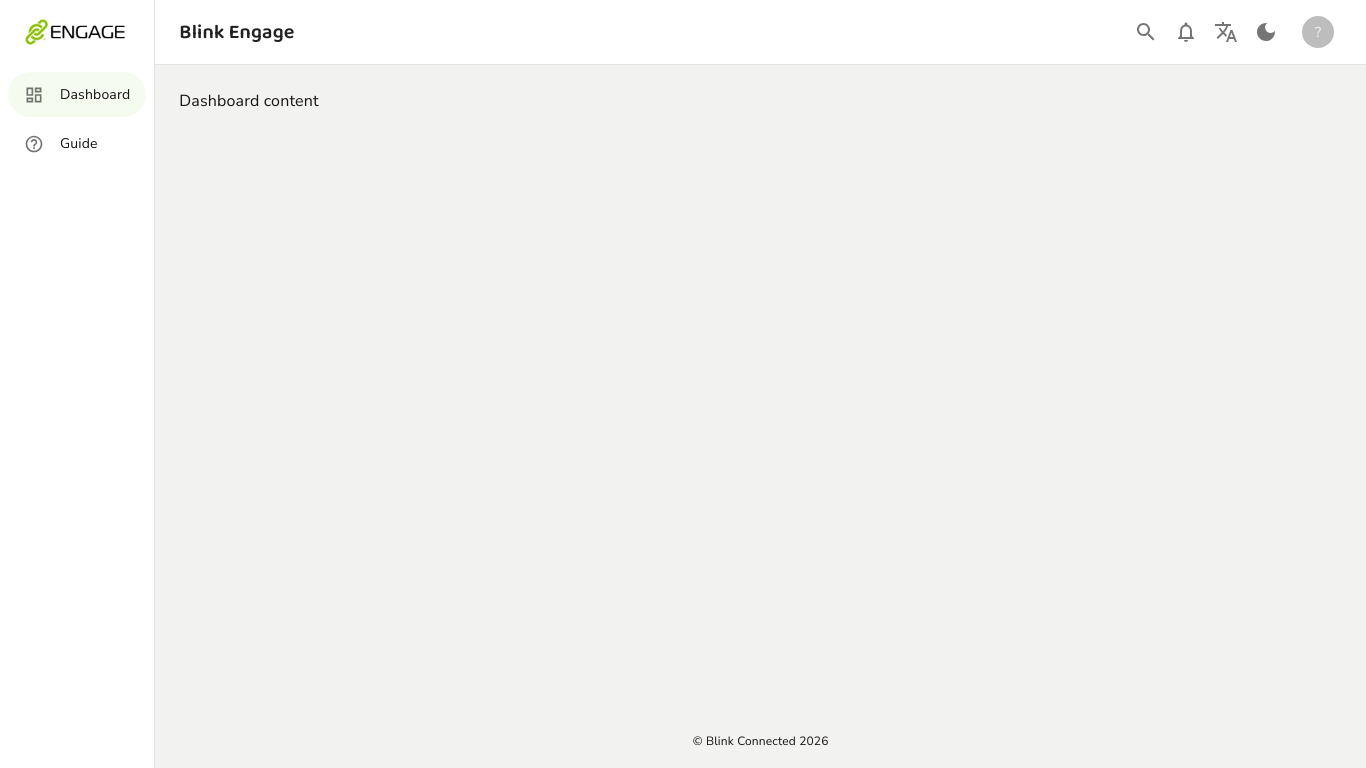
Test: AppLayout › language menu › opens to show both supported languages
The image size is (1366, 768).
Click the button named "language menu" at [1226, 32], box [1206, 12, 1246, 52]
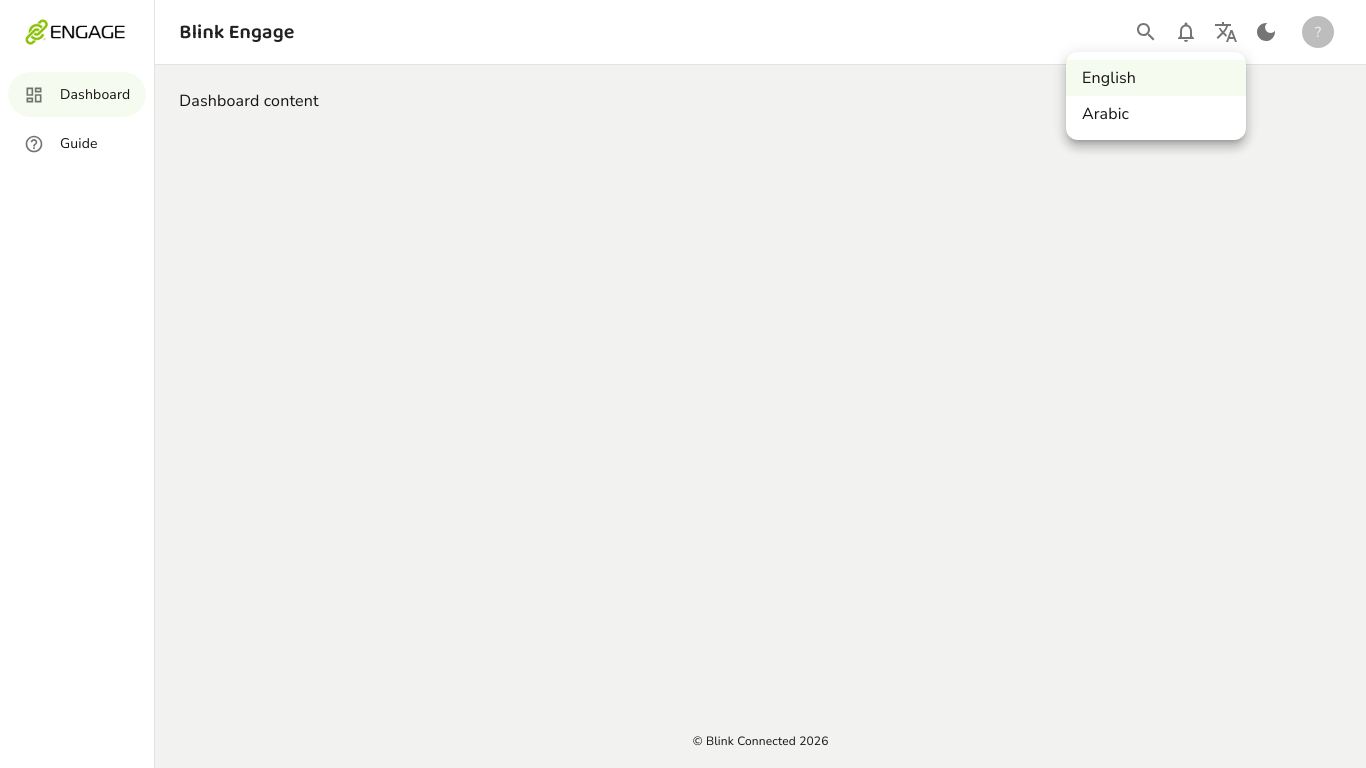
Expected: the menu item "English" is shown, [1066, 60, 1246, 96]
Expected: the menu item "Arabic" is shown, [1082, 103, 1129, 125]
